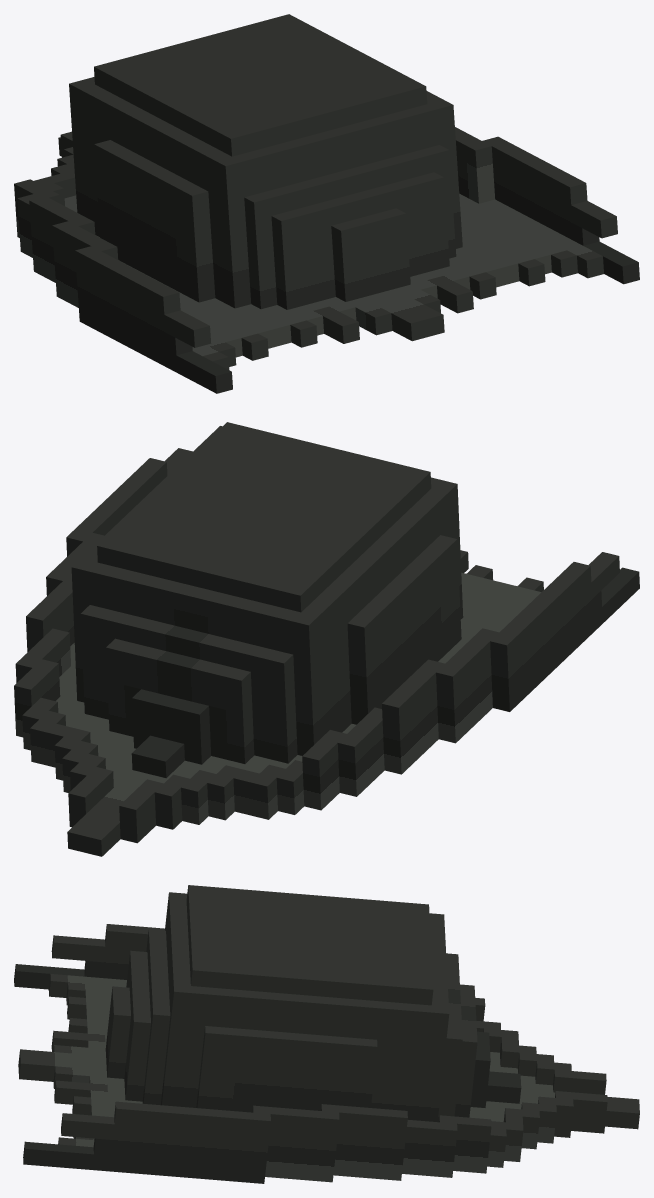
3 views of the same model, one above another, from view 1: azimuth 30°, elevation 25°; view 2: azimuth 150°, elevation 25°; view 3: azimuth 270°, elevation 25° (orthographic). The views are drawn at different scales.
Parts seen in each view (by area): view 1: Equip_Head-Local; view 2: Equip_Head-Local; view 3: Equip_Head-Local.
Boxes of the visible parts, left/top/right/bottom form: Equip_Head-Local: left=14, top=14, right=639, bottom=393; Equip_Head-Local: left=14, top=422, right=639, bottom=856; Equip_Head-Local: left=14, top=885, right=639, bottom=1183.
Bounding box in the file's own units: 26.33 × 12.68 × 36.21.
1 material, 1 textured.
